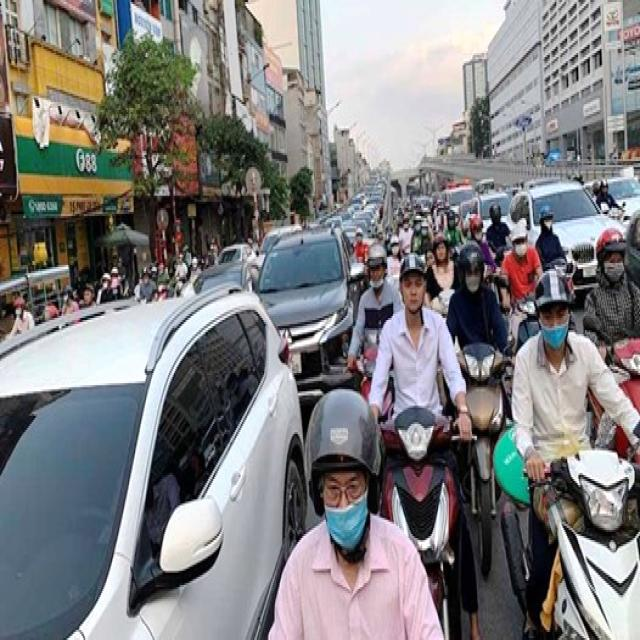Car: (0, 285, 308, 638), (253, 225, 358, 392), (584, 175, 639, 222), (554, 201, 606, 240)
